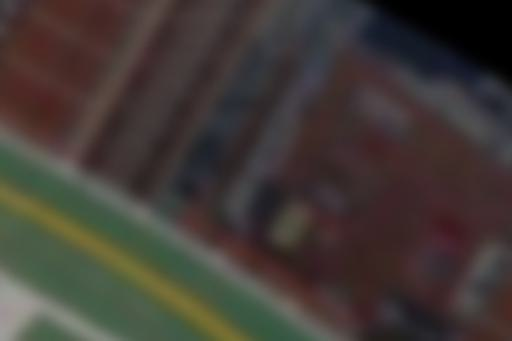Apron: (3, 156, 243, 341)
